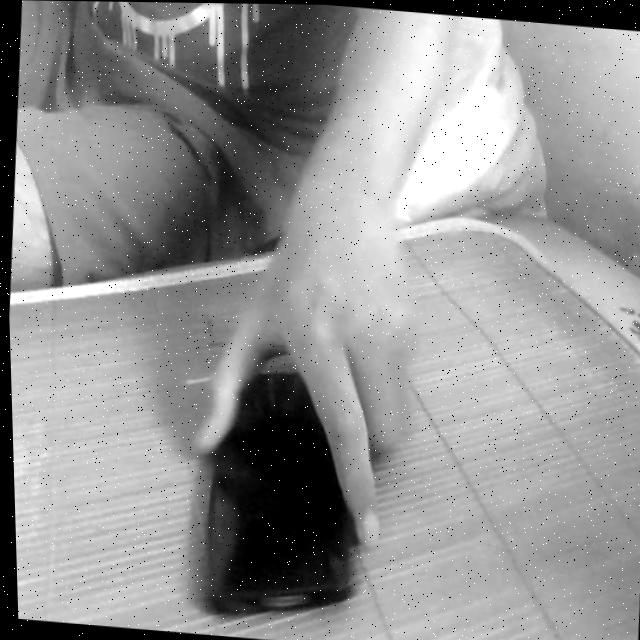phone: (171, 319, 393, 628)
